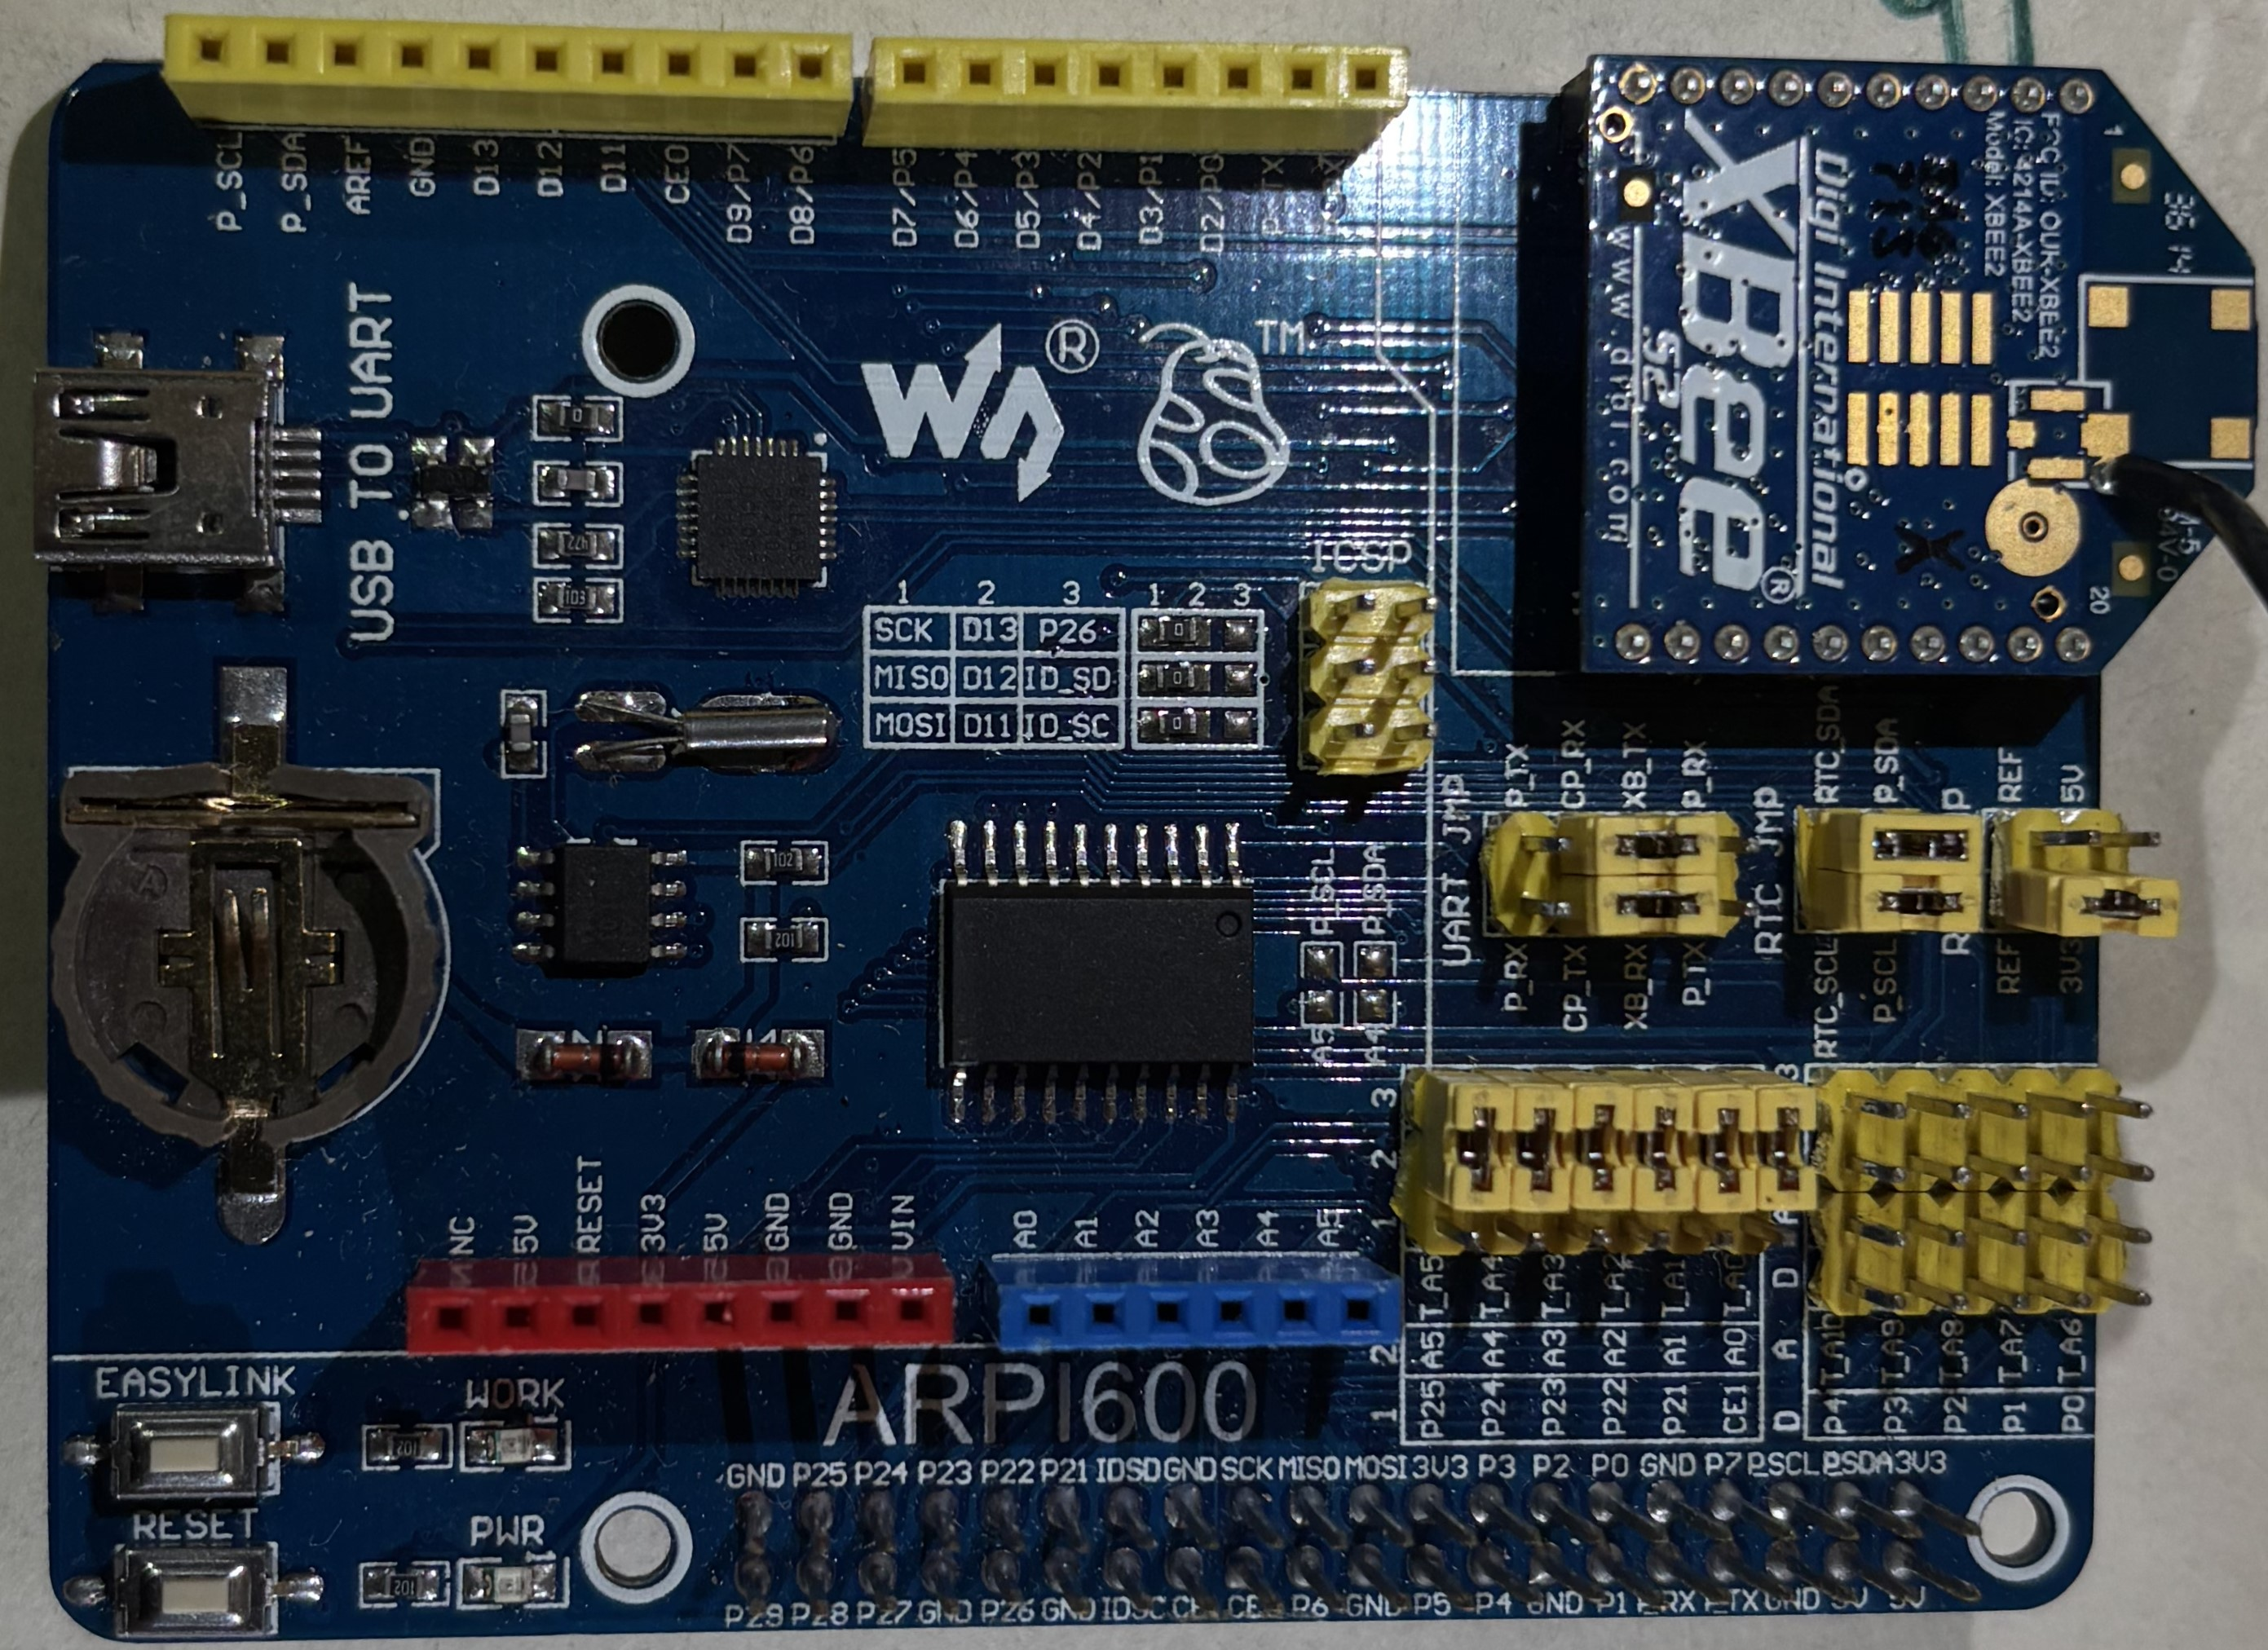connector: (729, 1490, 1988, 1620), (157, 14, 859, 157), (870, 33, 1410, 160), (407, 1250, 958, 1358), (1814, 1069, 2157, 1203), (1812, 1194, 2155, 1324), (983, 1249, 1402, 1354), (1307, 571, 1435, 771), (1410, 1204, 1798, 1268), (1491, 808, 1576, 937), (2004, 805, 2169, 870)
